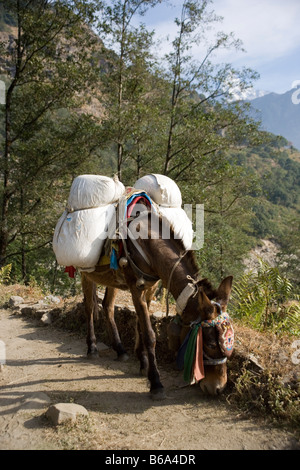equine: (64, 173, 252, 419)
